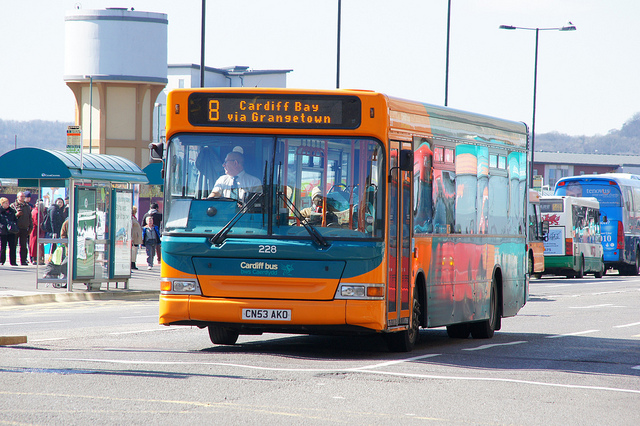Bus: (154, 82, 549, 347)
